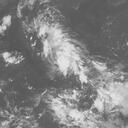cyclone: (28, 10, 122, 102)
